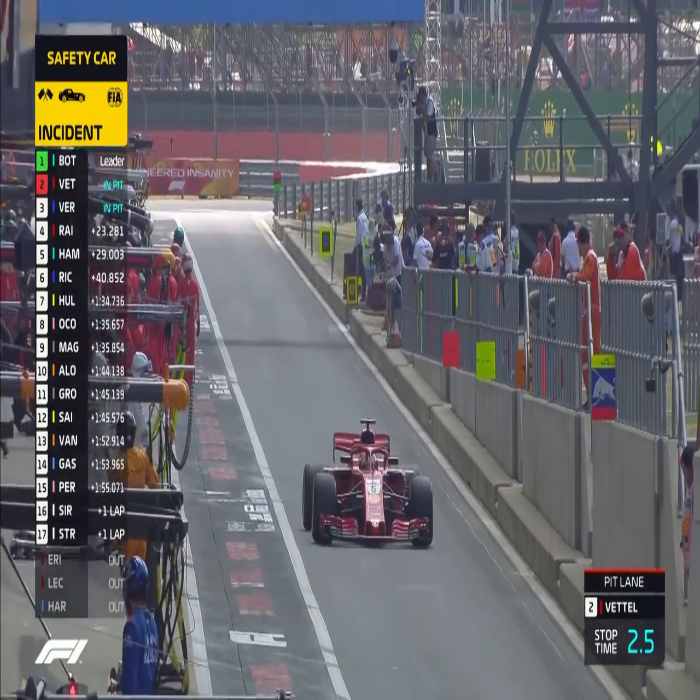f1_car: (292, 422, 443, 553)
